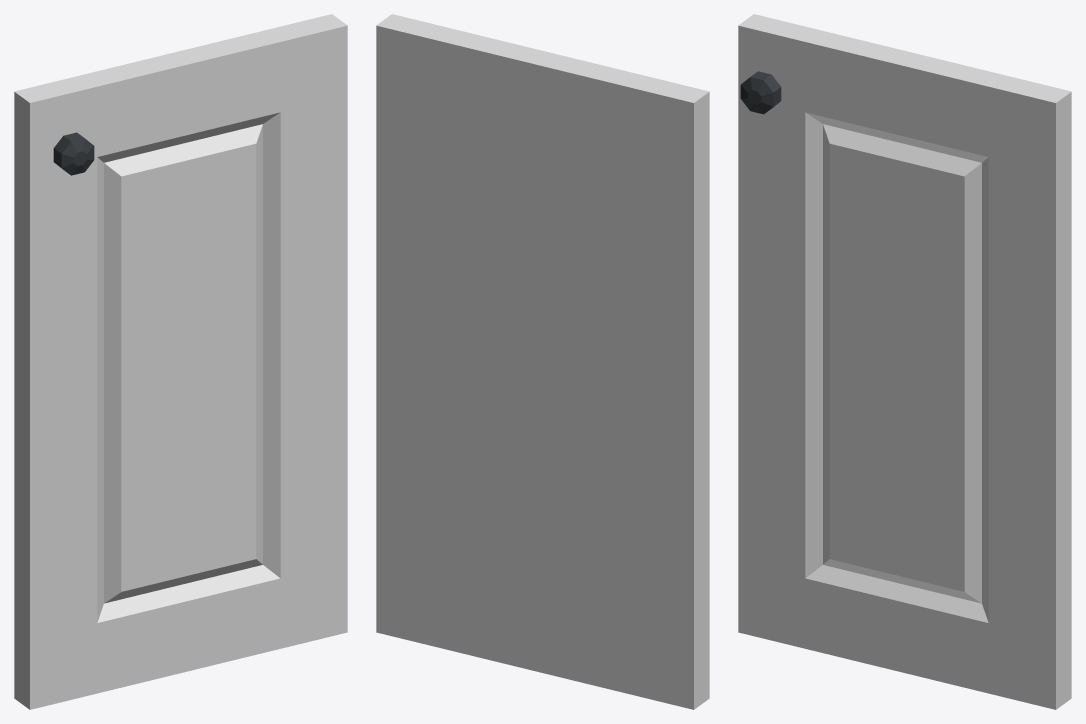
The model's file is Door3_C1_09.fbx.
The picture shows the model from 3 angles, left to right: view 1: azimuth 30°, elevation 25°; view 2: azimuth 150°, elevation 25°; view 3: azimuth 330°, elevation 25°; orthographic projection.
Parts seen in each view (by area): view 1: Door3_C1_09; view 2: Door3_C1_09; view 3: Door3_C1_09.
Part boxes in pixels (box(x1,y1,x2,y2)): Door3_C1_09: box(14, 14, 347, 709); Door3_C1_09: box(376, 14, 709, 709); Door3_C1_09: box(738, 14, 1071, 709).
Size of the model in its own units: 29 by 52.92 by 5.19.
